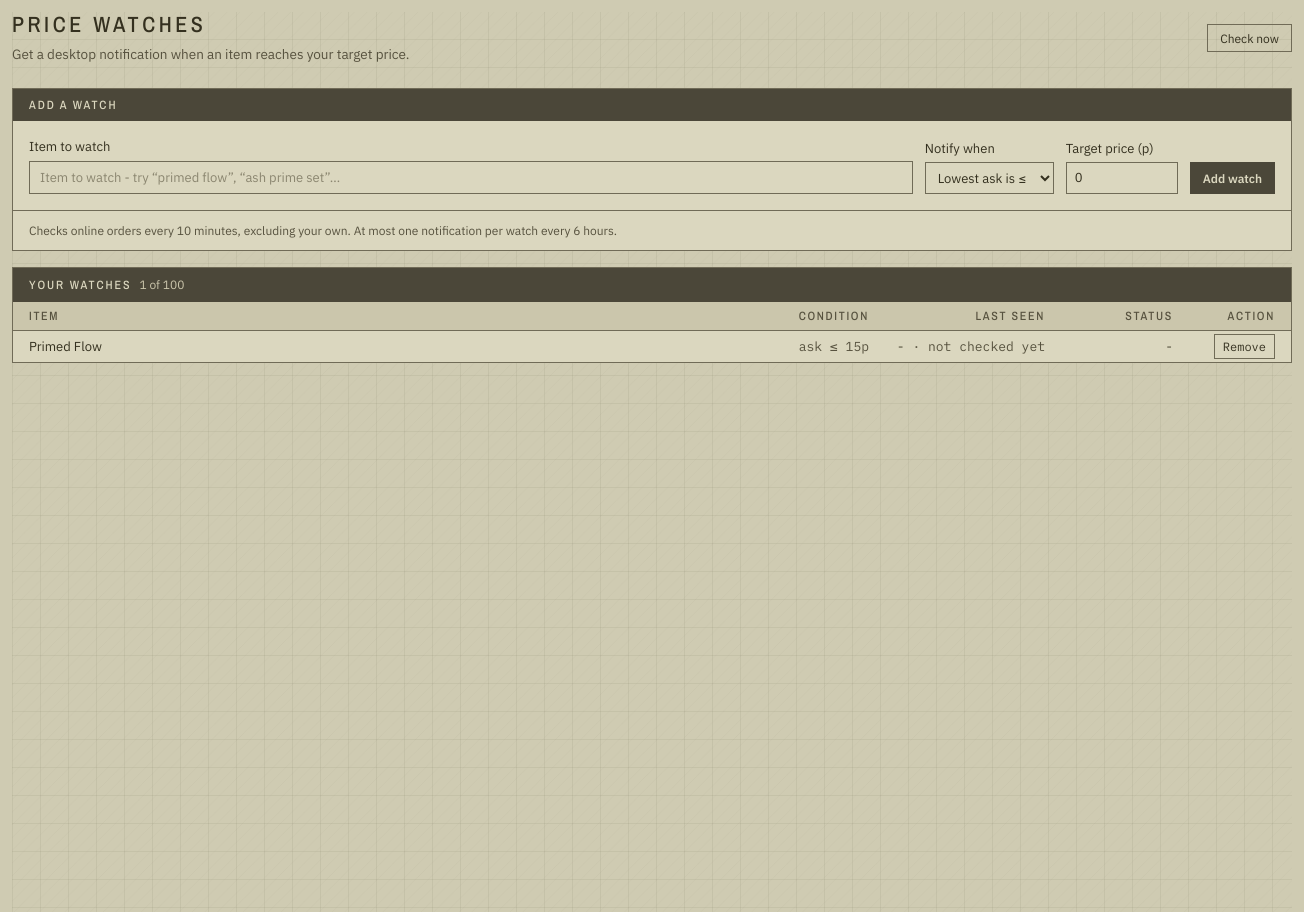
Scenario: WatchlistPanel › check now runs a pass and reports satisfied watches
Expected: the text "ask ≤ 15p" is shown, [715,330,875,362]
Click the button "Check now": (1250, 38) [1207,24,1292,52]
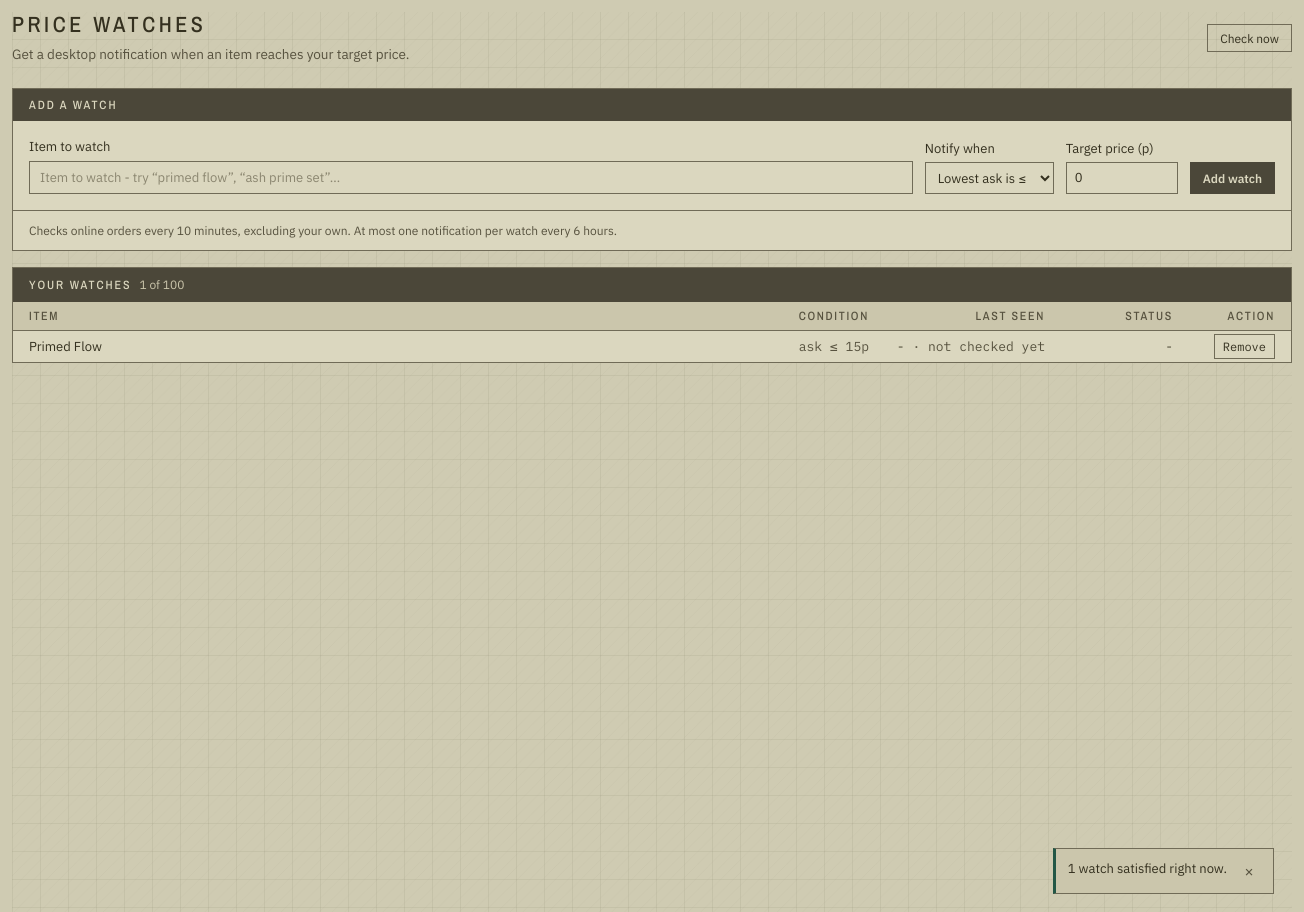
Result: the text "1 watch satisfied right now." is shown at [1068,859,1227,878]
